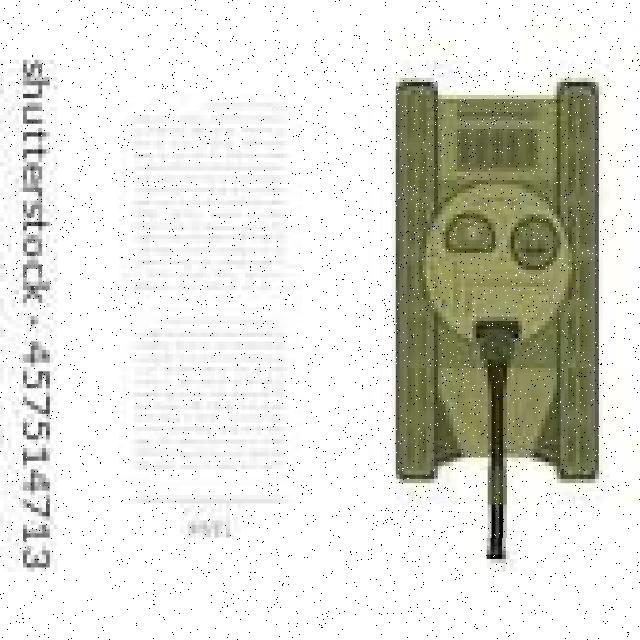MIL_MBT: (384, 65, 606, 538)
